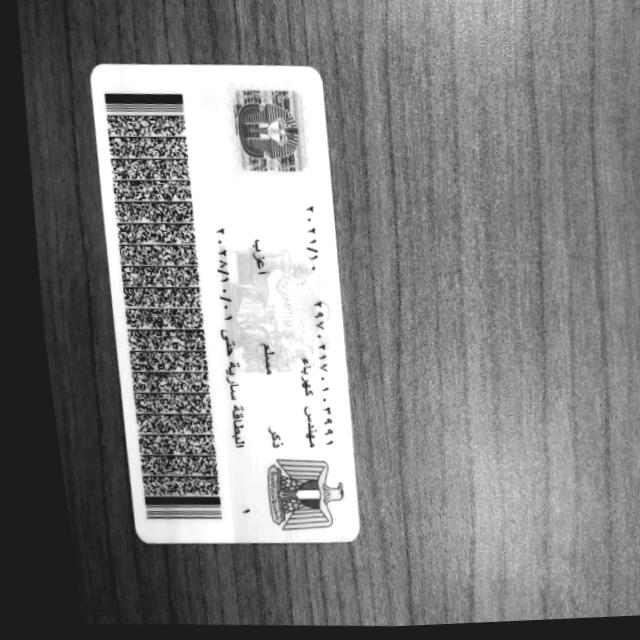id_card: (92, 64, 358, 543)
